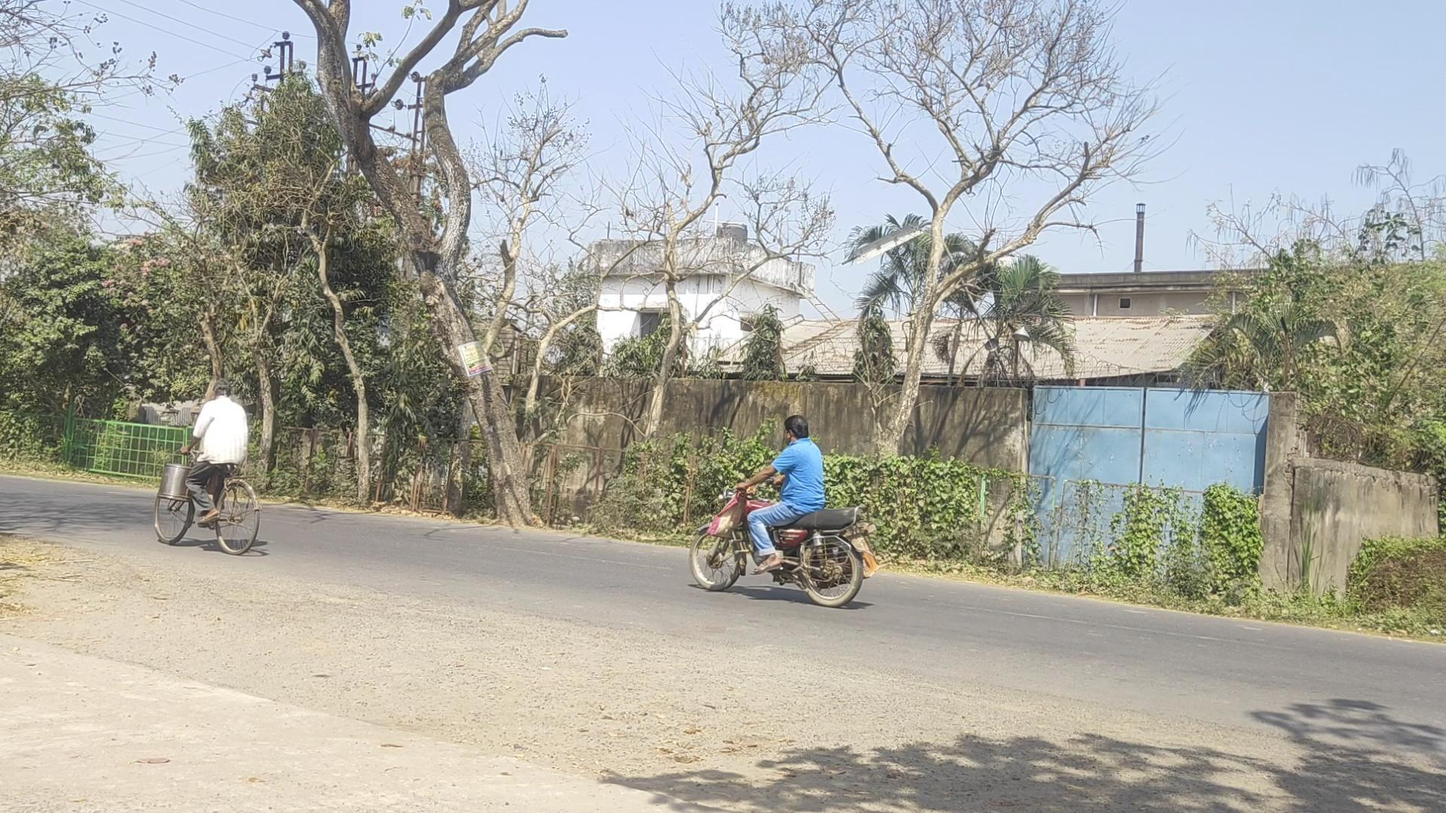bike: (689, 415, 877, 608), (154, 379, 260, 555)
